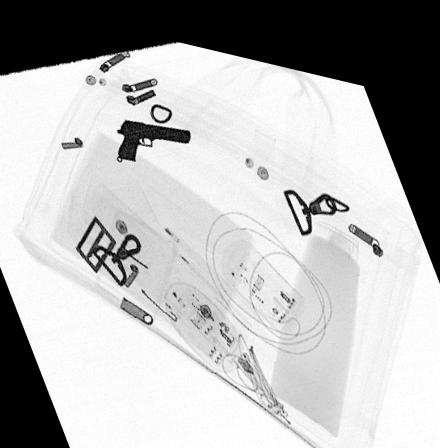Gun: (116, 113, 190, 155)
